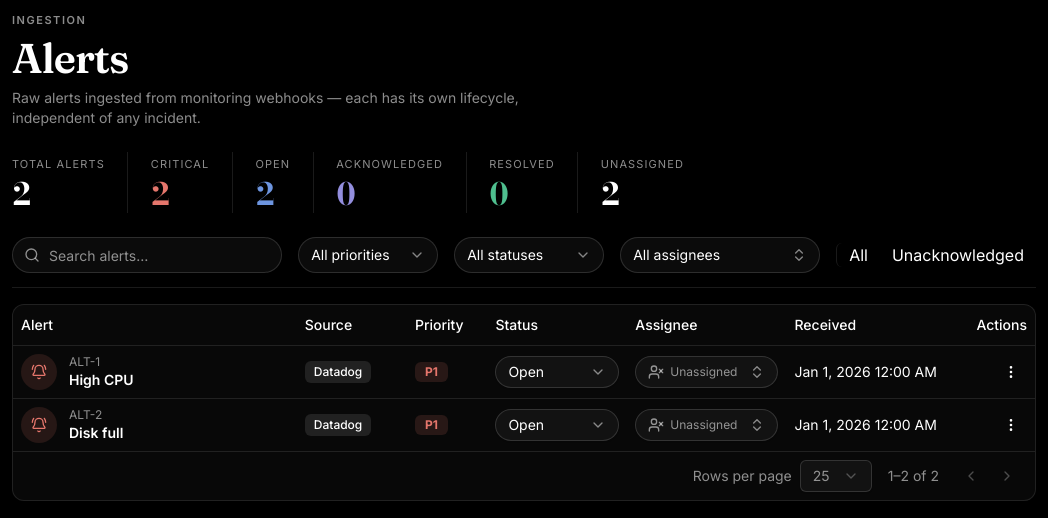
AlertsPage — stats and rows › filters by search text
In the field with placeholder "Search alerts…": (147, 255) left=12, top=237, right=282, bottom=273, type "disk"
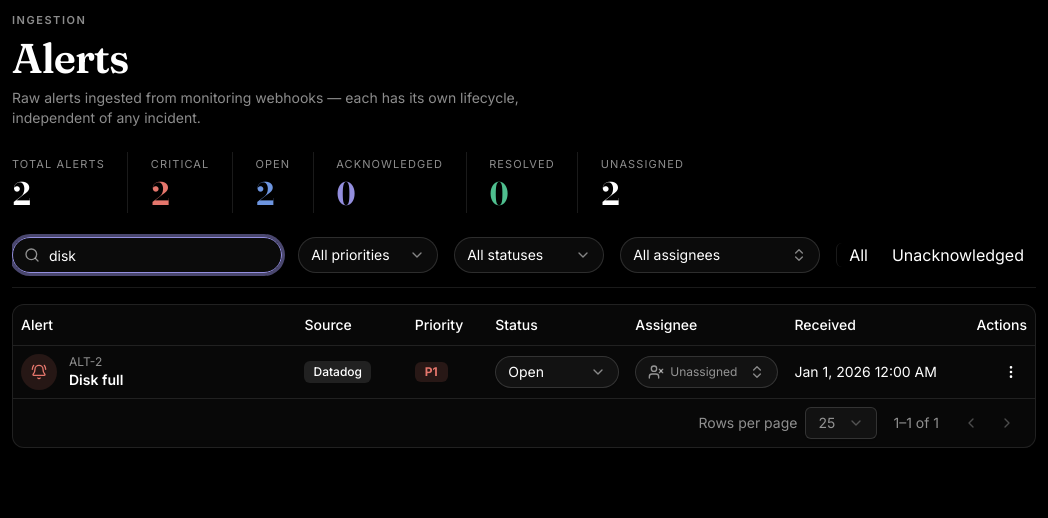
Expected: the text "Disk full" is shown, left=69, top=370, right=123, bottom=390
Result: the text "High CPU" is gone
